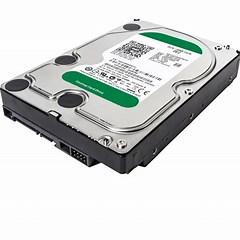internal HDD: (0, 19, 240, 175)
